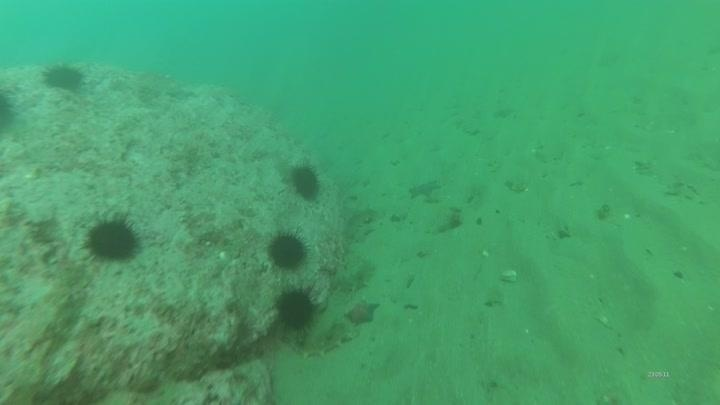echinus: (82, 214, 142, 265), (273, 285, 320, 334), (265, 229, 310, 272), (41, 61, 87, 94), (287, 162, 323, 202), (0, 90, 19, 134)
holothurian: (298, 318, 359, 360), (330, 256, 377, 295)
starfish: (343, 297, 382, 328), (407, 177, 443, 201)
